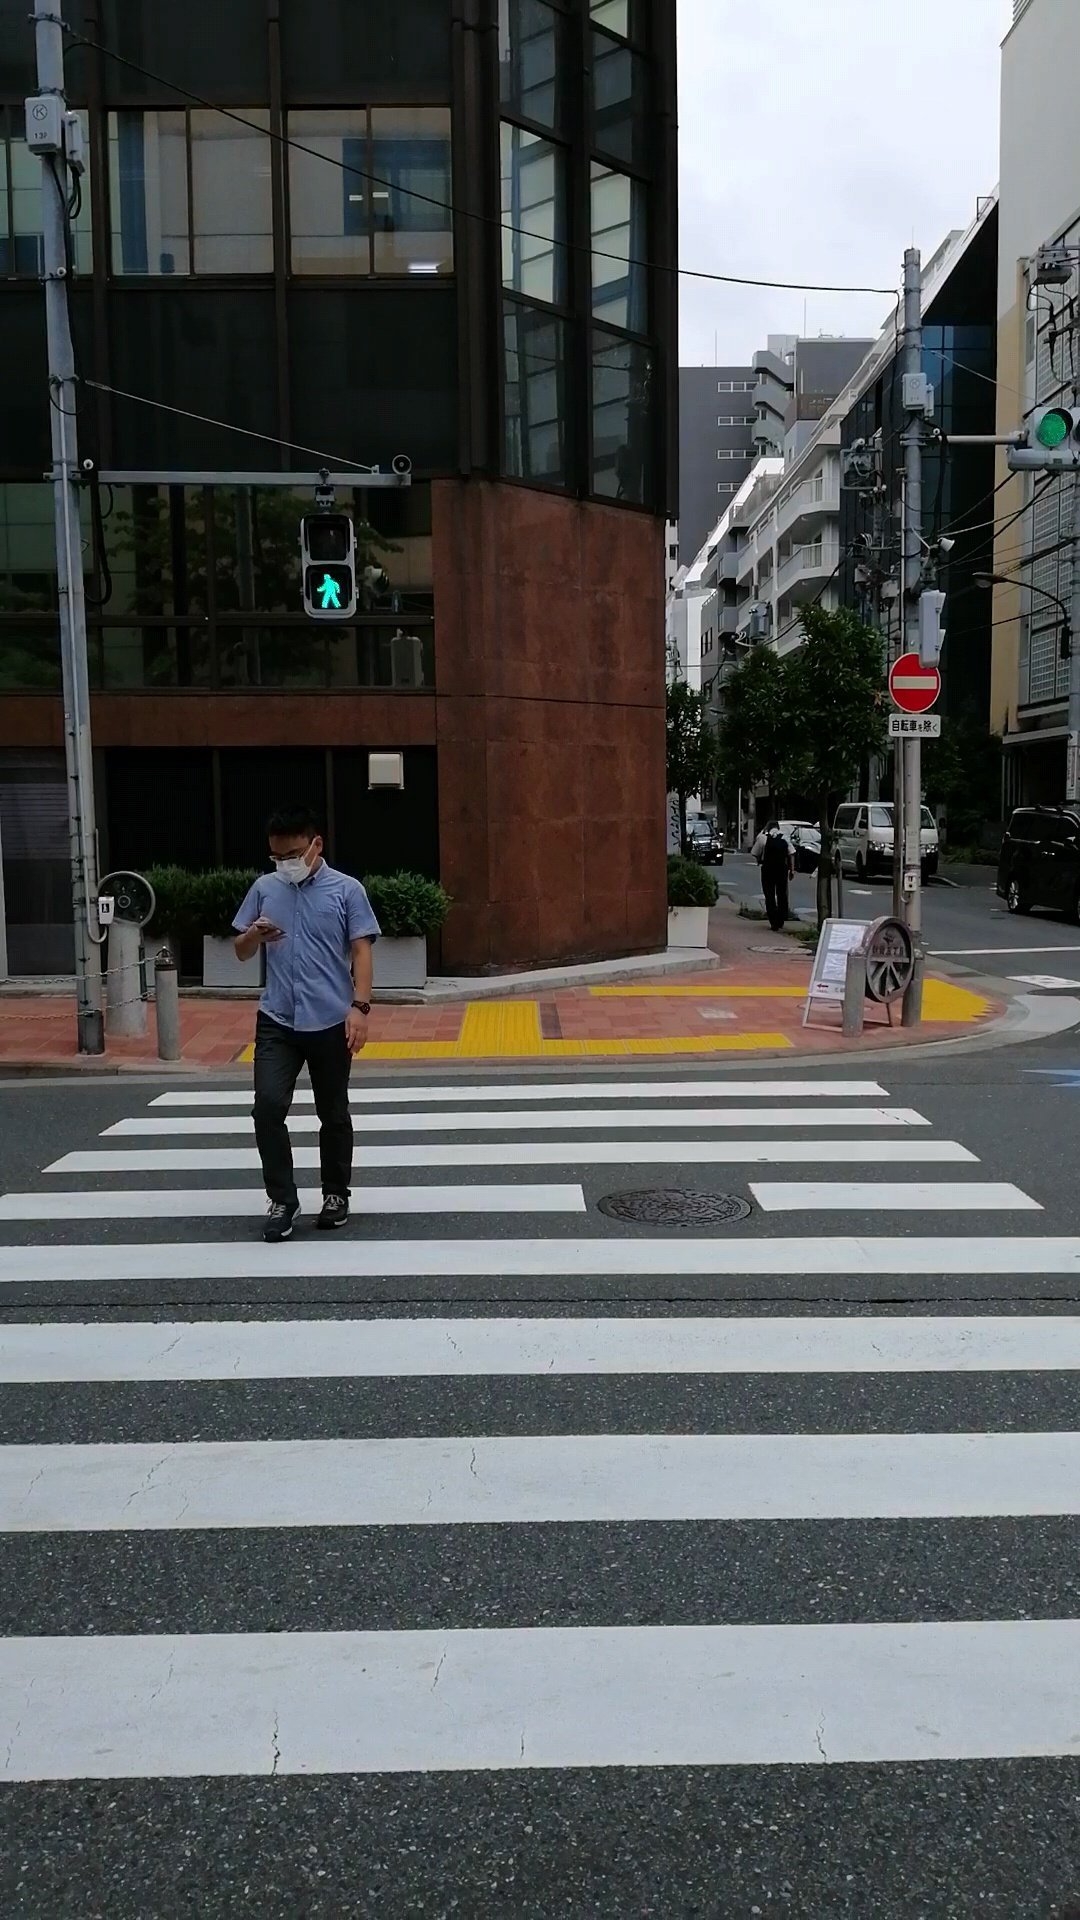green: (295, 506, 357, 621)
